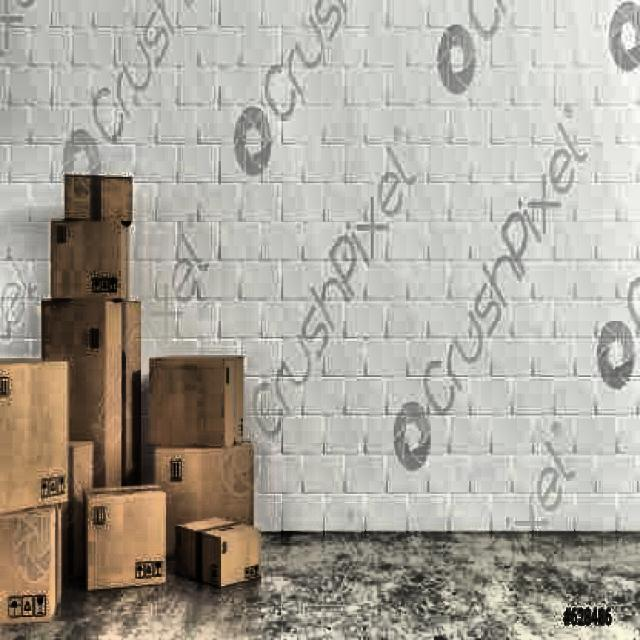Cardbox: (35, 288, 134, 526), (0, 351, 70, 518), (146, 438, 252, 544), (23, 217, 146, 302), (141, 348, 244, 448), (0, 497, 71, 628), (87, 488, 170, 596), (174, 522, 262, 589), (69, 178, 138, 224)
